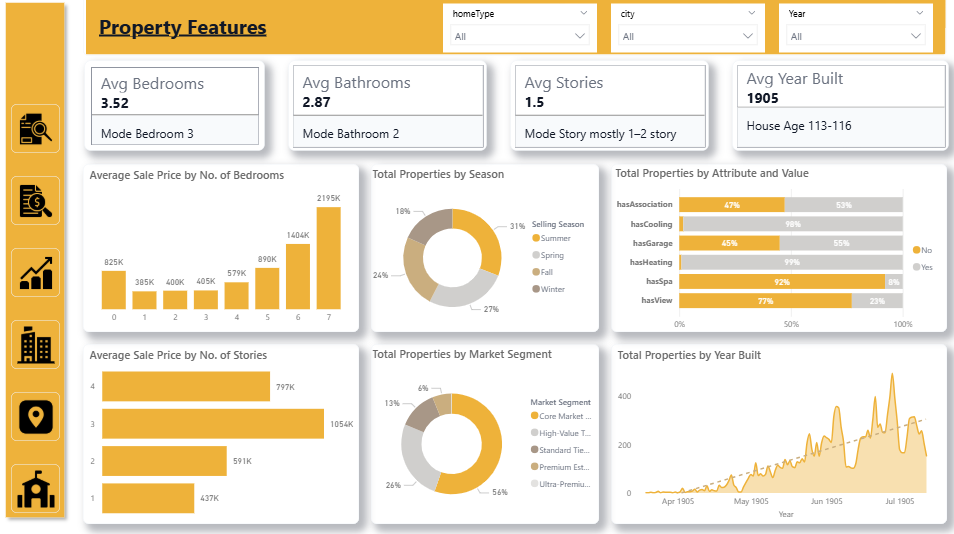

The dashboard page shown, as its layout file describes it:
{"tool":"powerbi","page":{"name":"Property Features","canvas":[1280,720],"ordinal":3},"visuals":[{"type":"cardVisual","fields":{"Data":["Measure.Avg Bedrooms"]},"box":[114.8,85,240,120],"z":0},{"type":"cardVisual","fields":{"Data":["Measure.Avg Bathrooms"]},"box":[386.8,85,264,120],"z":1000},{"type":"cardVisual","fields":{"Data":["Measure.Avg Stories"]},"box":[682.8,85,264,120],"z":2000},{"type":"cardVisual","fields":{"Data":["Measure.Avg Year Built"]},"box":[978.8,85,288,120],"z":3000},{"type":"clusteredColumnChart","title":"Average Sale Price by No. of Bedrooms","fields":{"Category":["Dim_House_Details.numOfBedrooms"],"Y":["Measure.Avg Price"]},"box":[112,224,368,224],"z":4000},{"type":"hundredPercentStackedBarChart","fields":{"Category":["Features Pivot.Attribute"],"Series":["Features Pivot.Value"],"Y":["Measure.Total Properties"]},"box":[816,224,448,224],"z":5000},{"type":"barChart","title":"Average Sale Price by No. of Stories","fields":{"Y":["Measure.Avg Sale Price"],"Category":["Dim_House_Details.numOfStories"]},"box":[112,464,368,240],"z":6000},{"type":"areaChart","title":"Total Properties by Year Built","fields":{"Category":["Fact_Housing.yearBuilt.Variation.Date Hierarchy.Year","Fact_Housing.yearBuilt.Variation.Date Hierarchy.Quarter","Fact_Housing.yearBuilt.Variation.Date Hierarchy.Month","Fact_Housing.yearBuilt.Variation.Date Hierarchy.Day"],"Y":["Measure.Total Properties"]},"box":[816,464,448,240],"z":7000},{"type":"donutChart","fields":{"Category":["Fact_Housing.Market Segment"],"Y":["Measure.Total Properties"]},"box":[496,464,304,240],"z":8000},{"type":"donutChart","title":"Total Properties by Season","fields":{"Category":["Fact_Housing.Selling Season"],"Y":["Measure.Total Properties"]},"box":[496,224,304,224],"z":9000},{"type":"shape","box":[0,0,96,704],"z":10000},{"type":"image","box":[16,144,65,65],"z":11000},{"type":"image","box":[16,240,65,65],"z":12000},{"type":"image","box":[16,336,65,65],"z":13000},{"type":"image","box":[16,432,65,65],"z":14000},{"type":"image","box":[16,528,65,65],"z":15000},{"type":"image","box":[16,624,65,65],"z":16000},{"type":"shape","box":[112,0,1152,80],"z":17000},{"type":"slicer","fields":{"Values":["Fact_Housing.latest_saledate.Variation.Date Hierarchy.Year"]},"box":[1040,10,205,65],"z":18000},{"type":"slicer","fields":{"Values":["Dim_Location.city"]},"box":[816,10,205,65],"z":19000},{"type":"slicer","fields":{"Values":["Dim_House_Details.homeType"]},"box":[592,10,205,65],"z":20000},{"type":"textbox","title":"Executive Overview","box":[128,16,256,64],"z":20001}]}

Visuals, with their boxes on the page's 1280x720 design canvas (x1, y1, x2, y2). These are canvas units, not pixel positions in the 954x534 screenshot, which may show the page scaled, cropped or inside an application window:
cardVisual - Measure.Avg Bedrooms: <box>115,85,355,205</box>
cardVisual - Measure.Avg Bathrooms: <box>387,85,651,205</box>
cardVisual - Measure.Avg Stories: <box>683,85,947,205</box>
cardVisual - Measure.Avg Year Built: <box>979,85,1267,205</box>
"Average Sale Price by No. of Bedrooms" clusteredColumnChart: <box>112,224,480,448</box>
hundredPercentStackedBarChart - Features Pivot.Attribute x Features Pivot.Value: <box>816,224,1264,448</box>
"Average Sale Price by No. of Stories" barChart: <box>112,464,480,704</box>
"Total Properties by Year Built" areaChart: <box>816,464,1264,704</box>
donutChart - Fact_Housing.Market Segment x Measure.Total Properties: <box>496,464,800,704</box>
"Total Properties by Season" donutChart: <box>496,224,800,448</box>
shape: <box>0,0,96,704</box>
image: <box>16,144,81,209</box>
image: <box>16,240,81,305</box>
image: <box>16,336,81,401</box>
image: <box>16,432,81,497</box>
image: <box>16,528,81,593</box>
image: <box>16,624,81,689</box>
shape: <box>112,0,1264,80</box>
slicer - Fact_Housing.latest_saledate.Variation.Date Hierarchy.Year: <box>1040,10,1245,75</box>
slicer - Dim_Location.city: <box>816,10,1021,75</box>
slicer - Dim_House_Details.homeType: <box>592,10,797,75</box>
"Executive Overview" textbox: <box>128,16,384,80</box>
